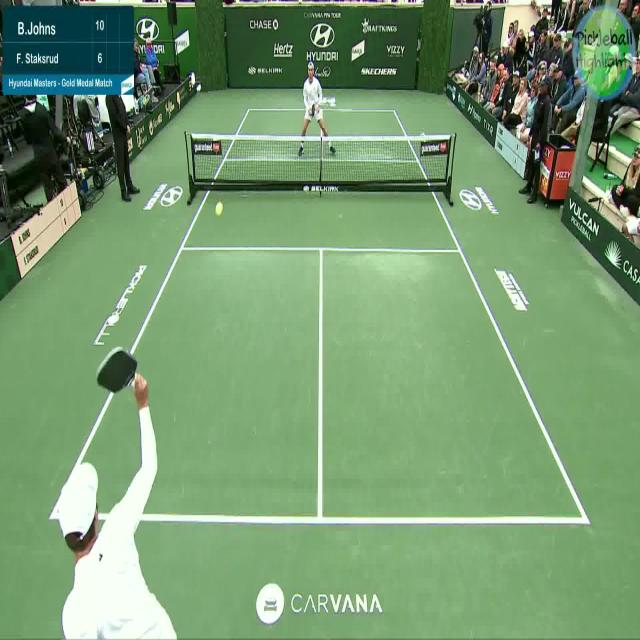Court: (47, 108, 589, 524)
ball: (212, 196, 228, 220)
